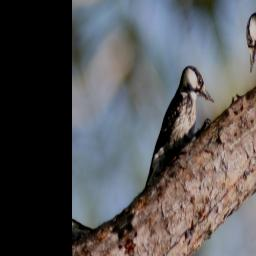Woodpecker: (120, 53, 222, 192)
